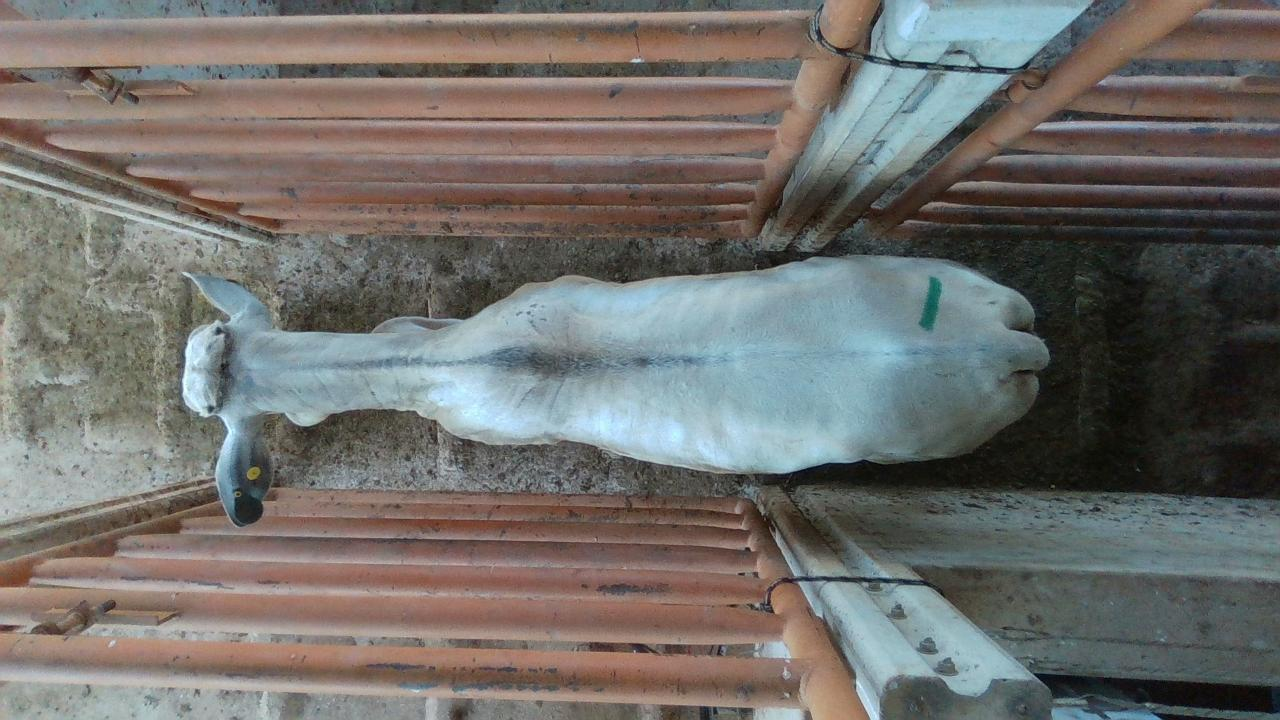cattle: (179, 252, 1051, 527)
